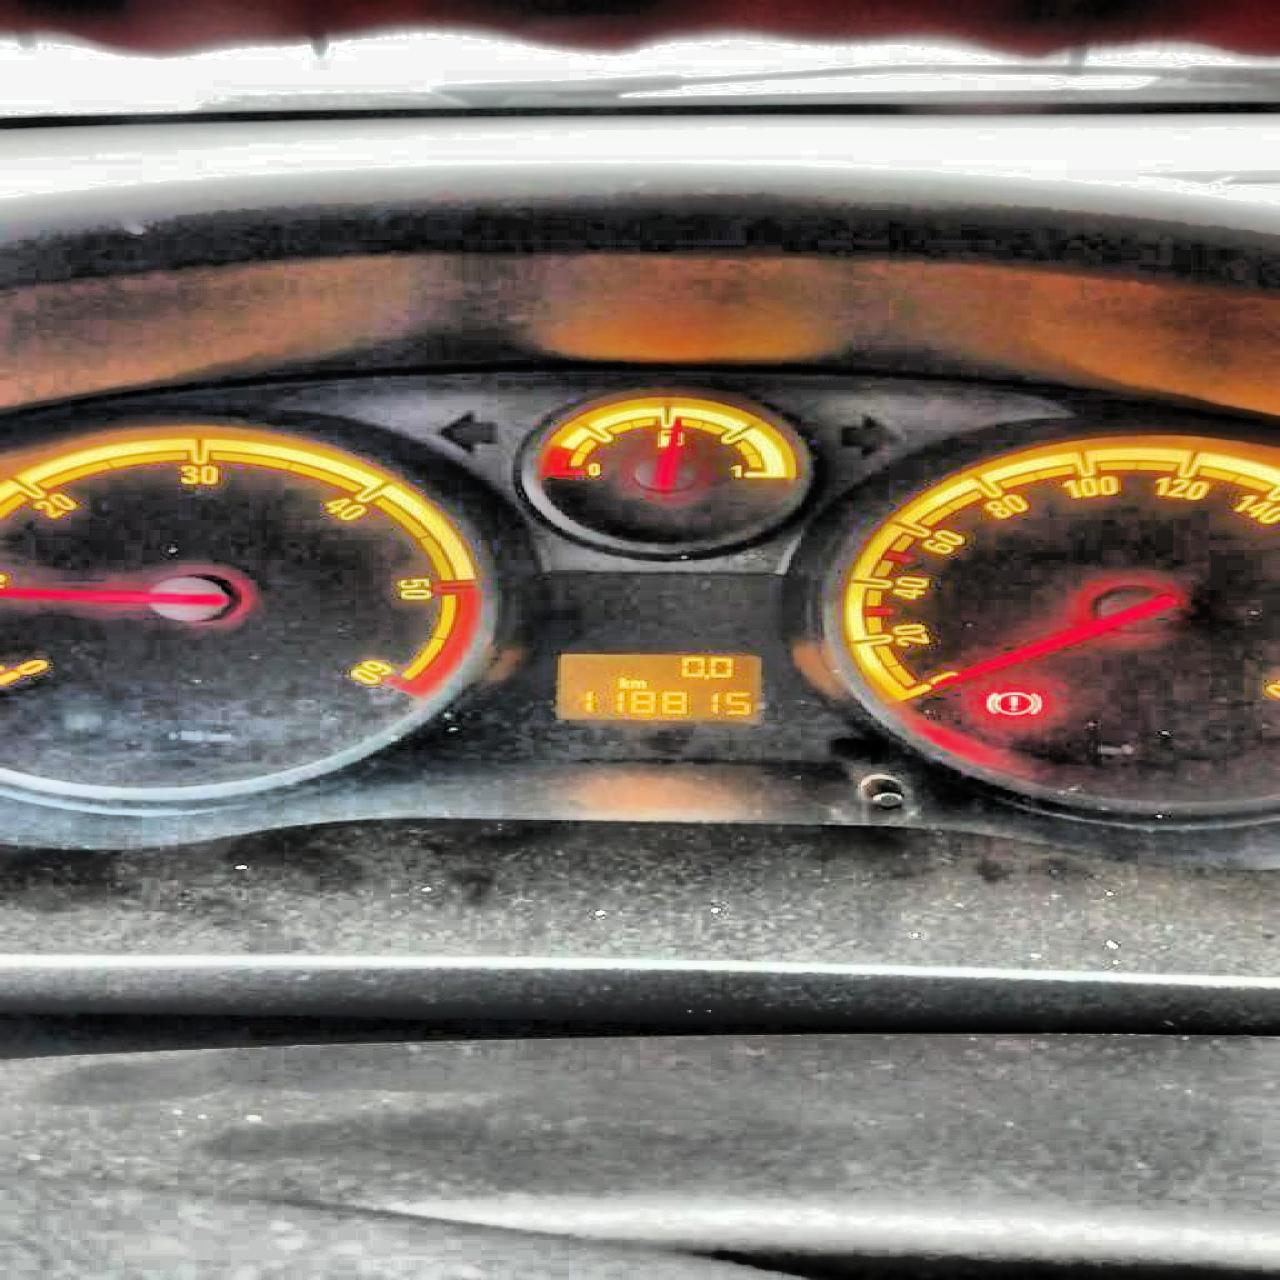-: (702, 673, 709, 679)
0: (707, 656, 731, 678), (678, 656, 702, 676)
1: (613, 688, 625, 714), (583, 688, 593, 714), (709, 689, 720, 715)
5: (722, 690, 751, 715)
8: (658, 688, 687, 714), (627, 688, 653, 714)
X: (629, 679, 647, 688), (615, 675, 626, 687)
odometer: (549, 651, 762, 726)
